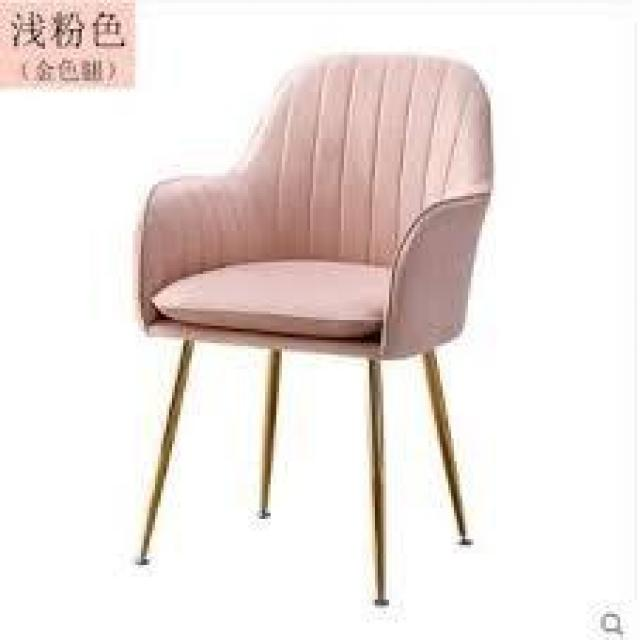chair: (111, 77, 537, 550)
